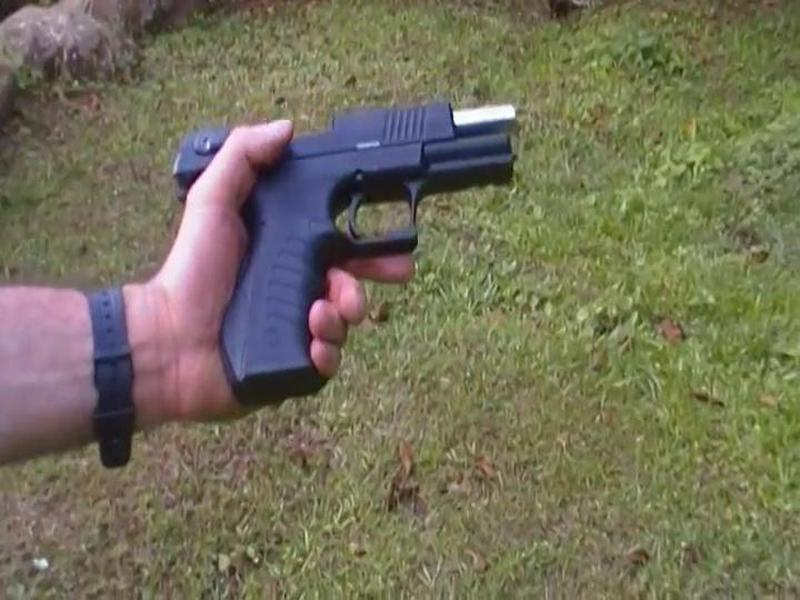Pistola: (155, 94, 541, 408)
